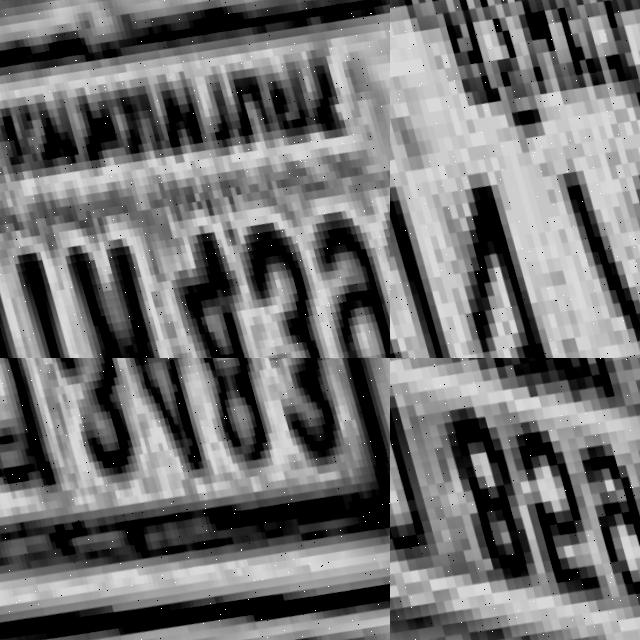license-plate: (0, 0, 390, 358), (0, 358, 390, 640), (390, 0, 640, 358), (390, 358, 640, 640)
